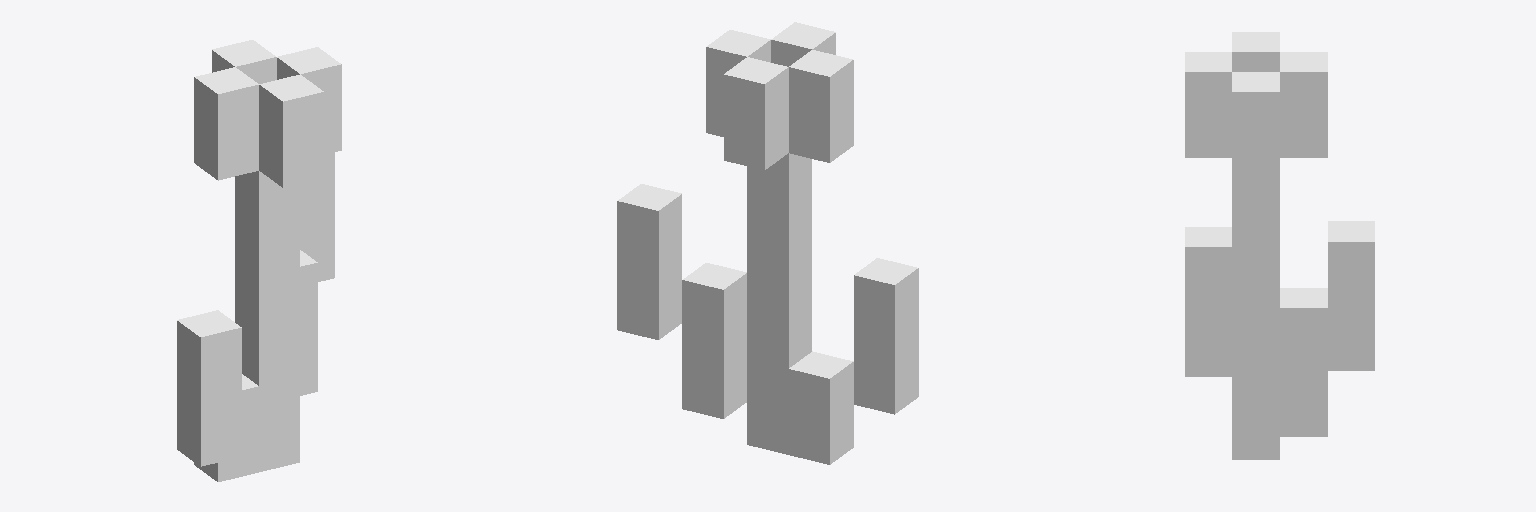
The model's file is flower1painted.obj.
3 renders of one model, left to right at view 1: azimuth 30°, elevation 25°; view 2: azimuth 150°, elevation 25°; view 3: azimuth 270°, elevation 25°, orthographic.
Visible parts, largest first — view 1: Flower.002; view 2: Flower.002; view 3: Flower.002.
Boxes of the visible parts, box(x1,y1,x2,y2) form: Flower.002: box(177, 40, 341, 481); Flower.002: box(617, 22, 918, 464); Flower.002: box(1185, 32, 1374, 459).
Bounding box in the file's own units: 5 × 9 × 4.